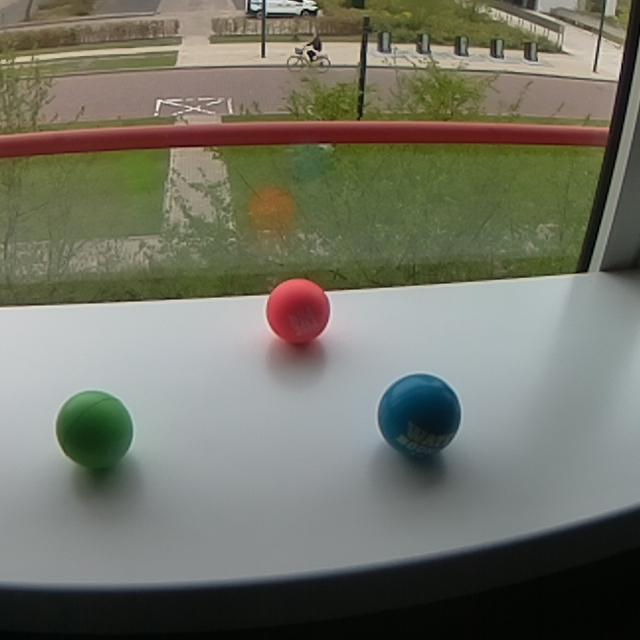ball: (376, 370, 464, 463), (54, 388, 135, 473), (264, 275, 332, 347)
